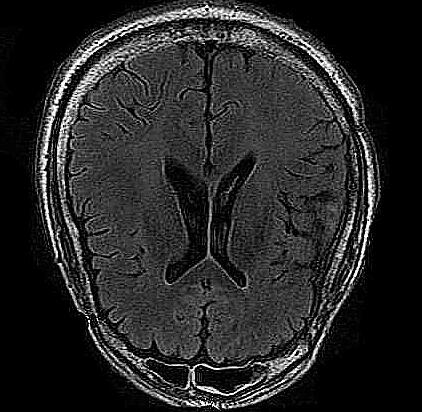Normal_Brain: (1, 1, 422, 412)
